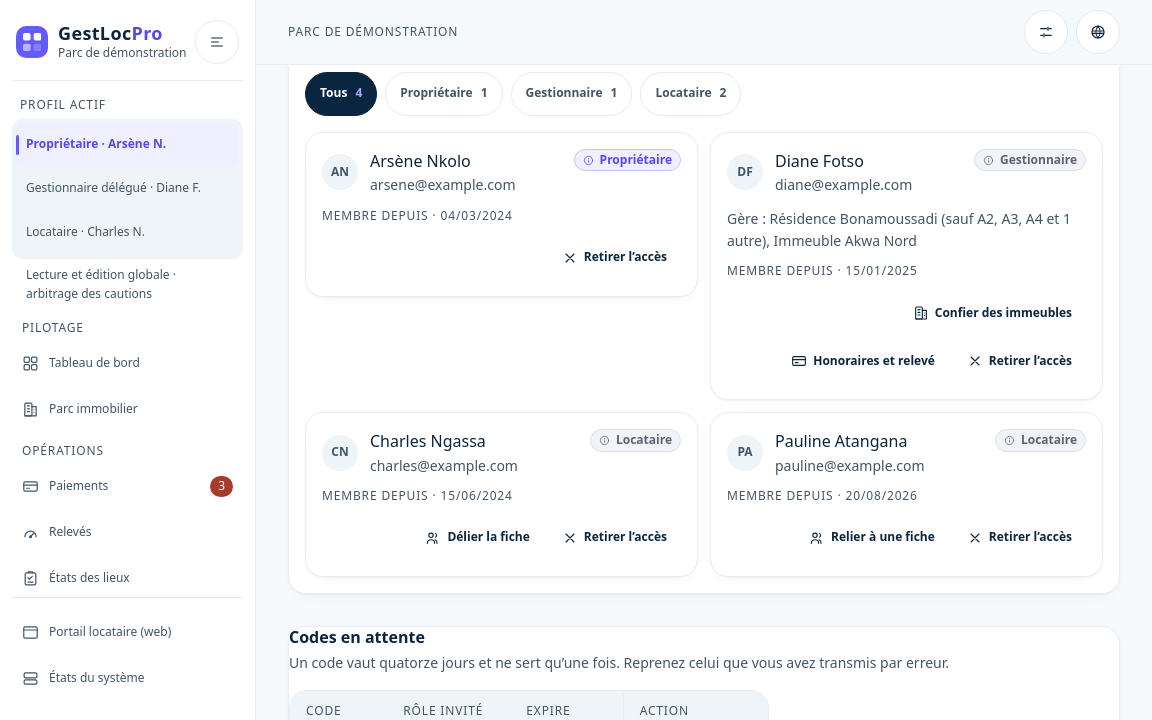
Scenario: les honoraires d’un mandataire › N’OFFRENT JAMAIS UN TAUX ET UN FORFAIT EN MÊME TEMPS
(page scrolled)
Click the button with aria-label "Honoraires et relevé — Diane Fotso" at (863, 361), box [777, 339, 949, 383]
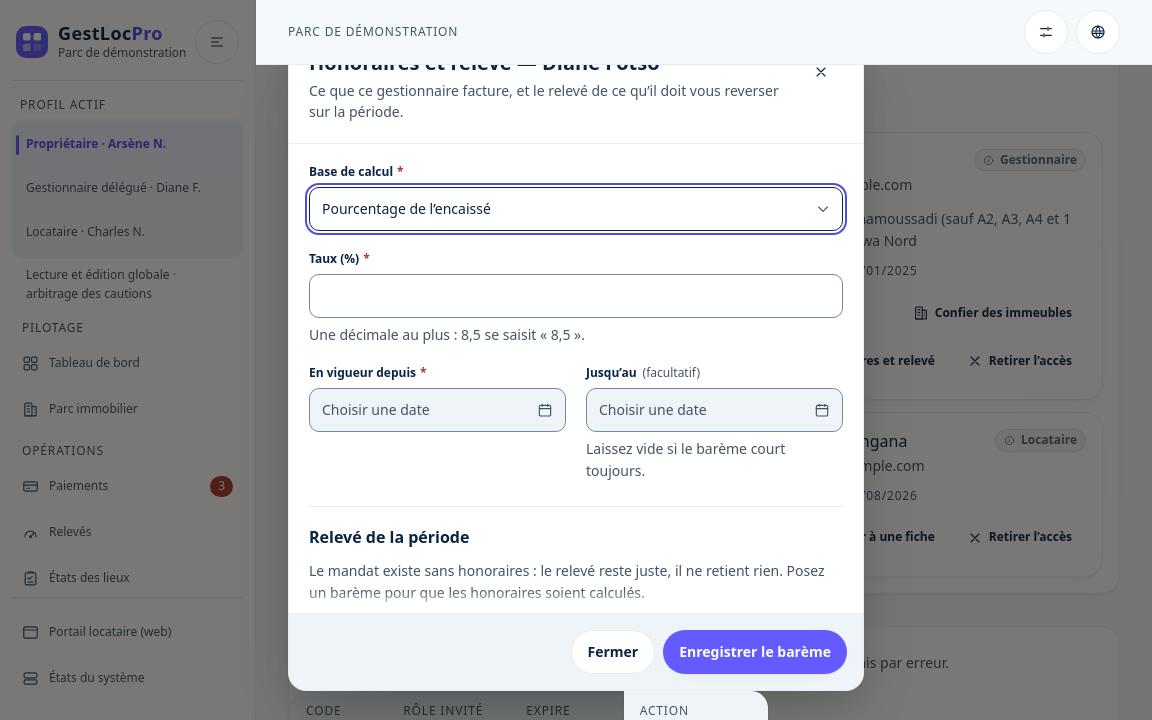
Expected: the field labelled "Forfait" is not shown
Expected: the field labelled "Taux (%)*" is shown, [309, 274, 843, 318]
Click the dropdown labelled "Base de calcul*" at (576, 209), box [309, 187, 843, 231]
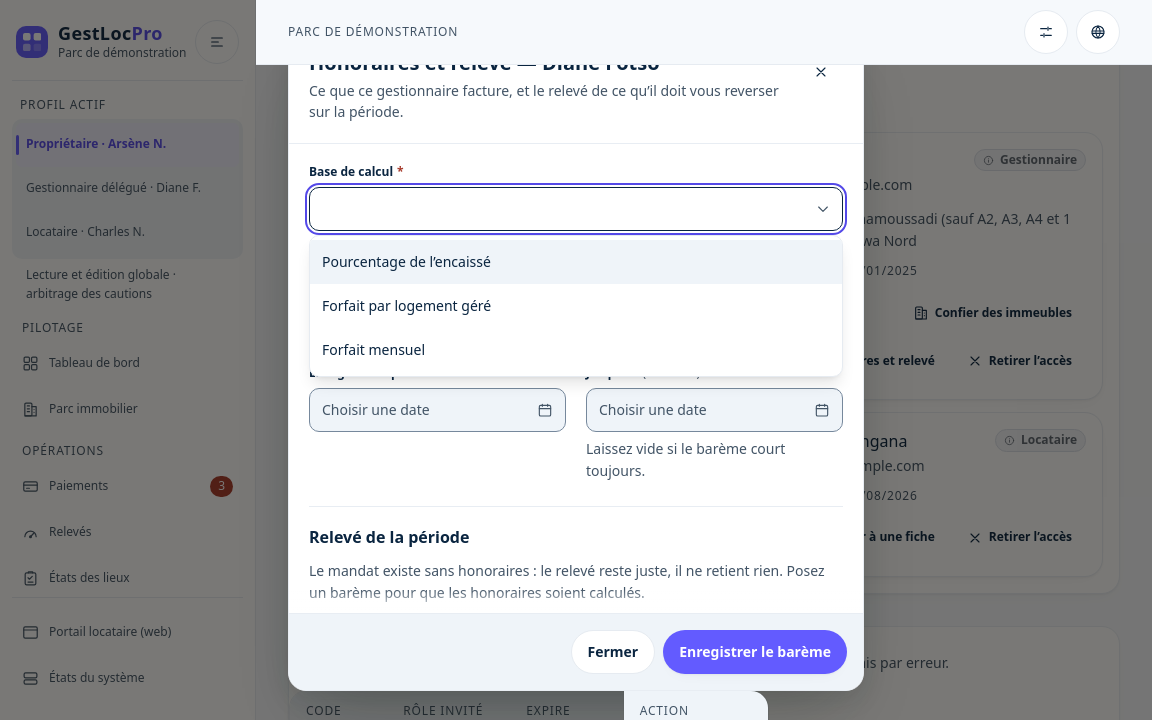
Click the option "Forfait mensuel" at (374, 350), box [322, 340, 425, 359]
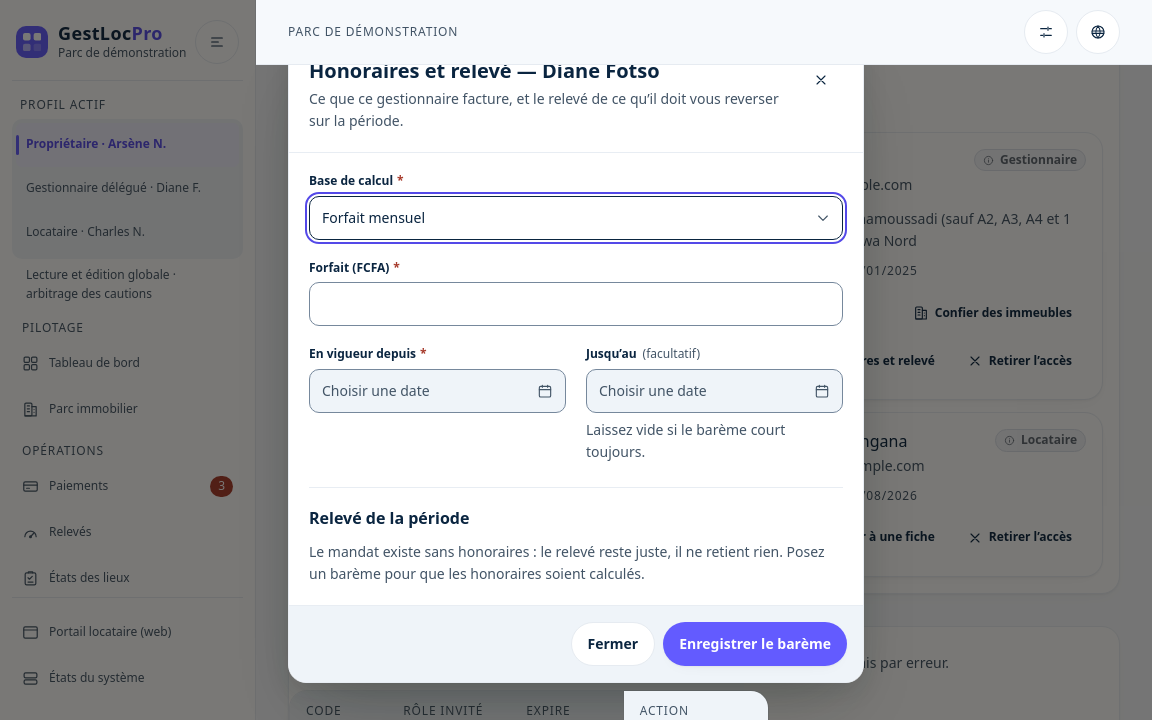
Expected: the field labelled "Forfait (FCFA)*" is shown, [309, 282, 843, 326]
Expected: the label labelled "Taux" is gone
